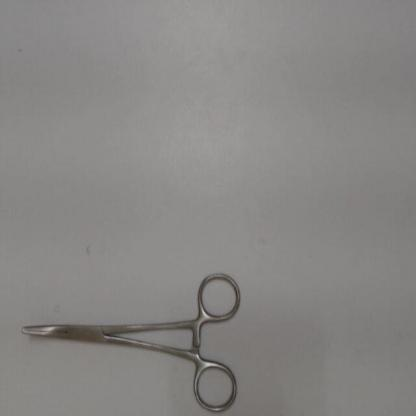Crile Artery Forceps: (14, 266, 246, 415)
